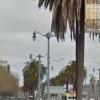Palm tree: (53, 2, 100, 99)
